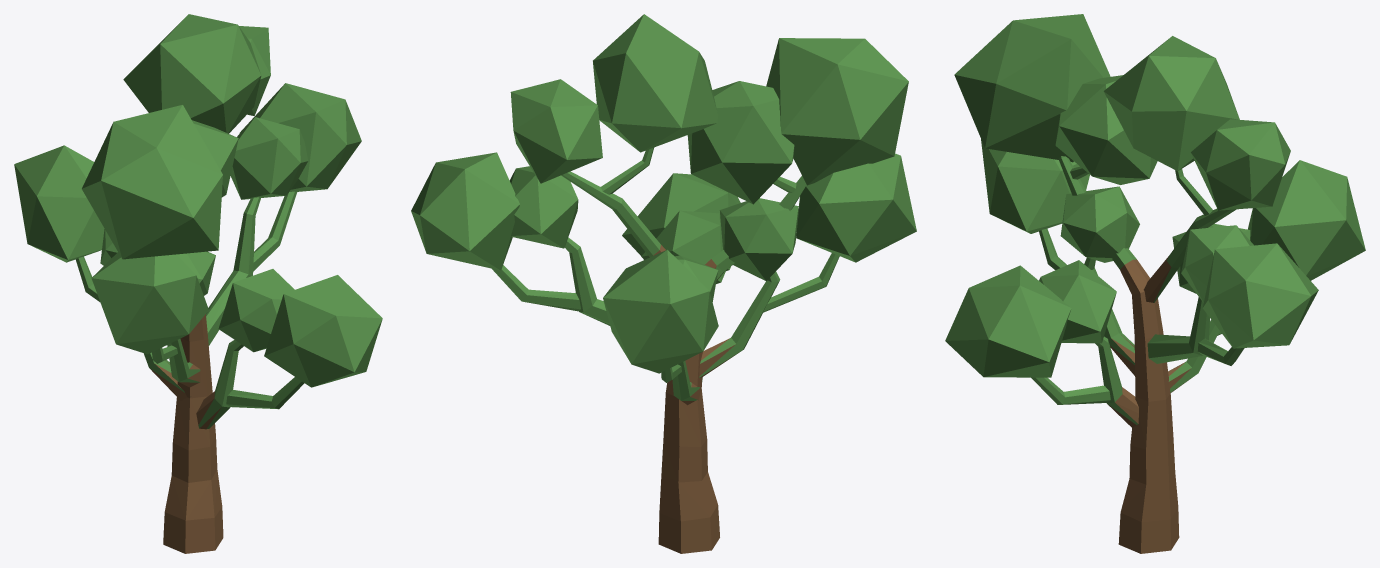
Rendered from tree3d-067.glb.
The picture shows the model from 3 angles, left to right: view 1: azimuth 30°, elevation 25°; view 2: azimuth 150°, elevation 25°; view 3: azimuth 270°, elevation 25°; orthographic projection.
Parts seen in each view (by area): view 1: tree3d-067; view 2: tree3d-067; view 3: tree3d-067.
Boxes of the visible parts, <box> form: tree3d-067: <box>14,14,382,553</box>; tree3d-067: <box>411,14,916,553</box>; tree3d-067: <box>945,14,1365,553</box>.
Size of the model in its own units: 0.7749 by 1 by 0.7519.
